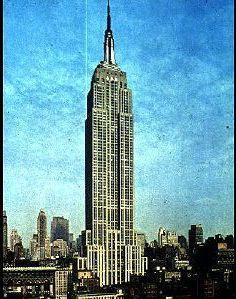building: (78, 1, 150, 287)
